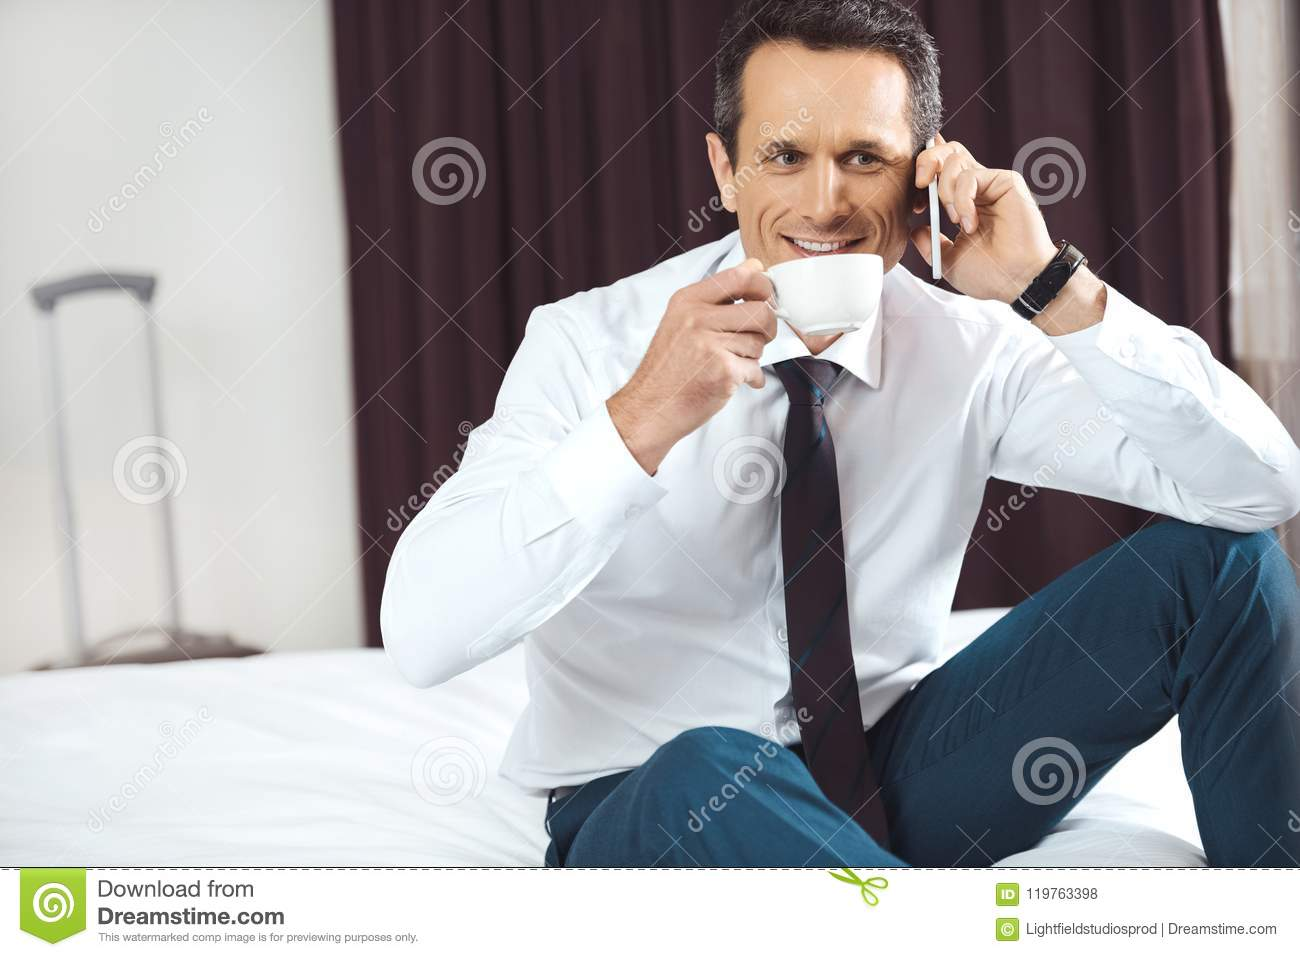phone: (913, 131, 953, 282)
talk: (749, 128, 1030, 301)
